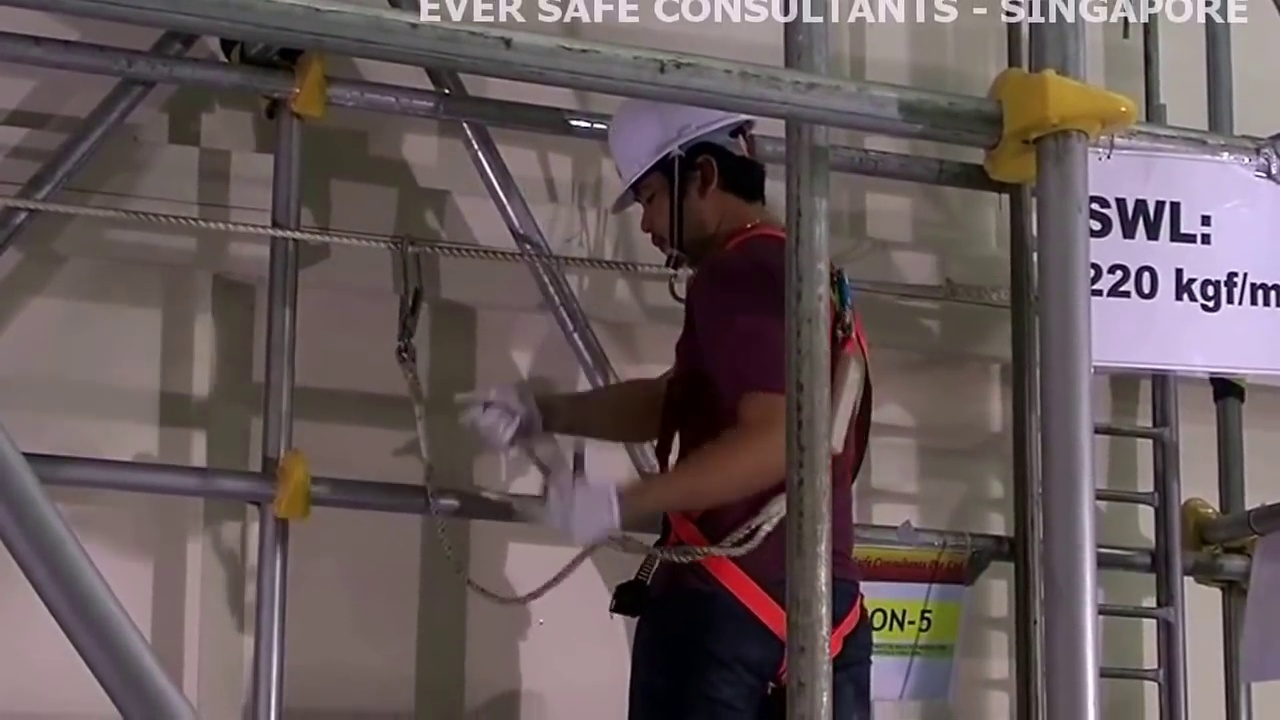harness: (817, 254, 871, 653)
helmet: (605, 103, 750, 157)
hook: (382, 224, 432, 345)
leash: (354, 444, 561, 631)
